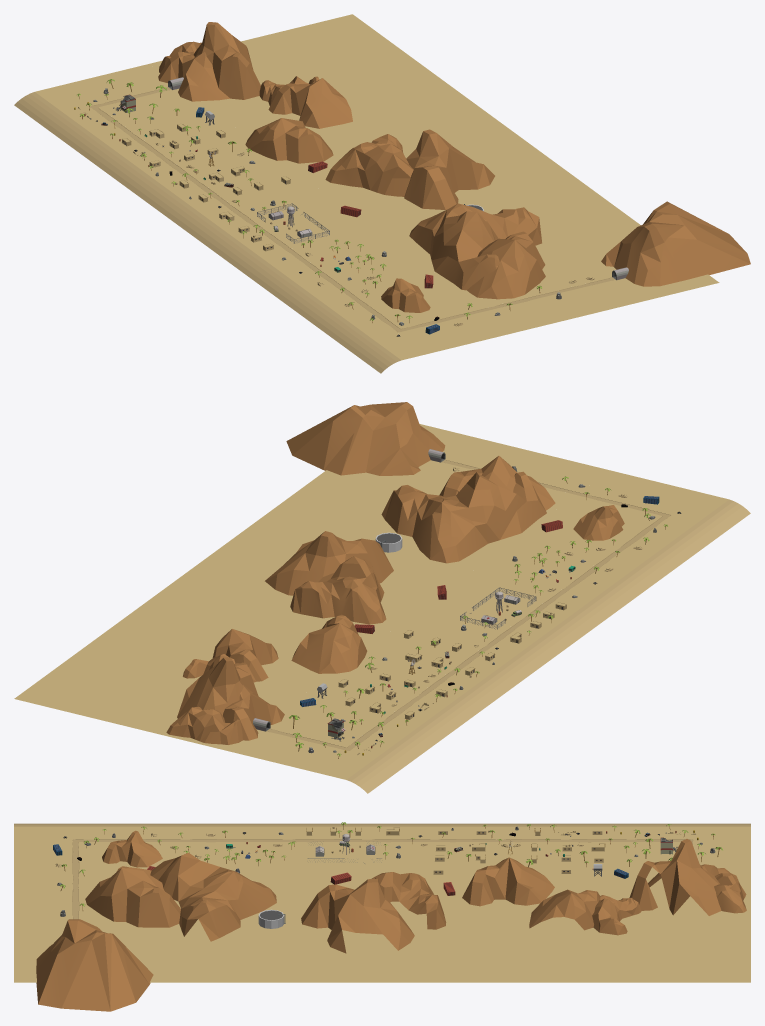
Rendered from _lvl_desert_bg_4.glb.
3 renders of one model, top to bottom at view 1: azimuth 30°, elevation 25°; view 2: azimuth 150°, elevation 25°; view 3: azimuth 270°, elevation 25°, orthographic. The views are drawn at different scales.
Parts seen in each view (by area): view 1: bg_ground_far_4, SM_Env_Hills_Pack_4, bg_ground_4, bg_near_plane_desert, Road_Full_4_part_2, Road_Full_4_part_3; view 2: bg_ground_far_4, SM_Env_Hills_Pack_4, bg_ground_4, bg_near_plane_desert, Road_Full_4_part_2, Road_Full_4_part_3; view 3: bg_ground_far_4, SM_Env_Hills_Pack_4, bg_ground_4, bg_near_plane_desert, Road_Full_4_part_2, Road_Full_4_part_3, SM_Bld_Silo_01 (1).
Part boxes in pixels (left/top/right/bottom): bg_ground_far_4: left=149, top=14, right=719, bottom=332; SM_Env_Hills_Pack_4: left=158, top=22, right=750, bottom=312; bg_ground_4: left=35, top=64, right=515, bottom=360; bg_near_plane_desert: left=14, top=92, right=401, bottom=373; Road_Full_4_part_2: left=88, top=104, right=404, bottom=332; Road_Full_4_part_3: left=401, top=277, right=615, bottom=331; bg_ground_far_4: left=14, top=424, right=609, bottom=750; SM_Env_Hills_Pack_4: left=166, top=402, right=624, bottom=744; bg_ground_4: left=227, top=470, right=728, bottom=779; bg_near_plane_desert: left=346, top=499, right=750, bottom=793; Road_Full_4_part_2: left=342, top=513, right=672, bottom=751; Road_Full_4_part_3: left=441, top=459, right=665, bottom=516; bg_ground_far_4: left=14, top=882, right=750, bottom=982; SM_Env_Hills_Pack_4: left=36, top=830, right=746, bottom=1011; bg_ground_4: left=14, top=826, right=750, bottom=882; bg_near_plane_desert: left=14, top=823, right=750, bottom=826; Road_Full_4_part_2: left=71, top=839, right=693, bottom=842; Road_Full_4_part_3: left=71, top=842, right=79, bottom=919; SM_Bld_Silo_01 (1): left=258, top=909, right=285, bottom=928.
Bounding box in the file's own units: 281 × 43.92 × 450.
Materials: 1 (1 with a texture image).
